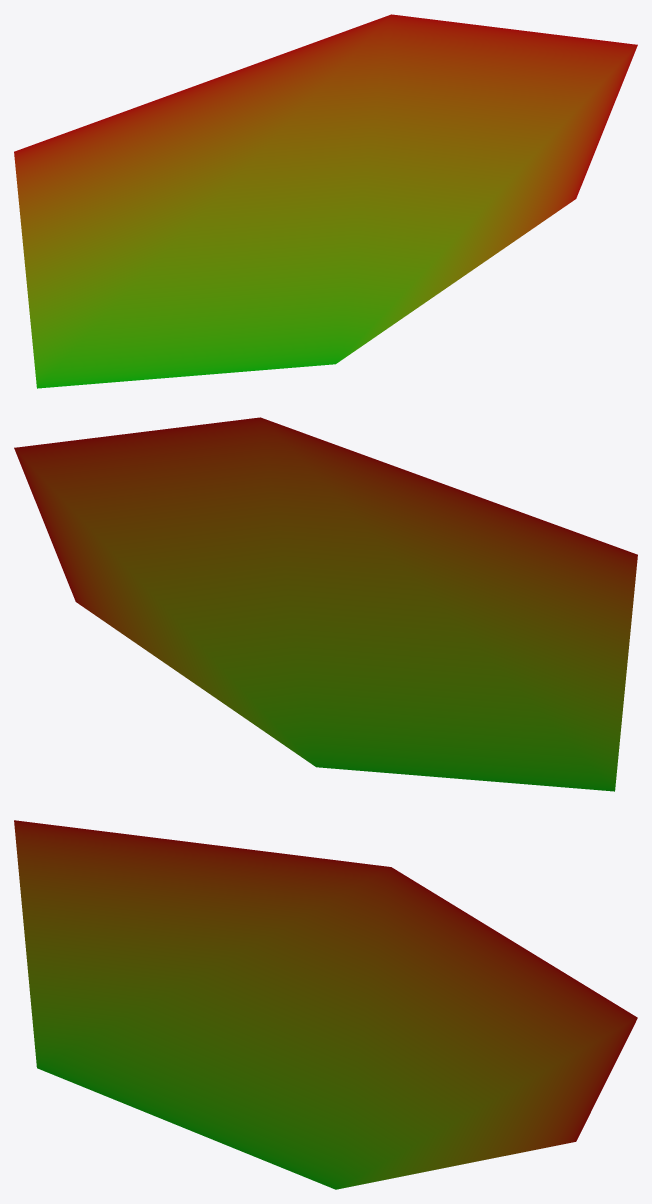
File: Alpine Bearberry_LOD5_Var2_xb0gdazqx.fbx
3 views of the same model, one above another, from view 1: azimuth 30°, elevation 25°; view 2: azimuth 150°, elevation 25°; view 3: azimuth 330°, elevation 25° (orthographic).
Visible parts, largest first — view 1: _jpwy_Var2_LOD5; view 2: _jpwy_Var2_LOD5; view 3: _jpwy_Var2_LOD5.
Boxes of the visible parts, bbox=[...] form: _jpwy_Var2_LOD5: bbox=[14, 14, 637, 388]; _jpwy_Var2_LOD5: bbox=[14, 417, 637, 791]; _jpwy_Var2_LOD5: bbox=[14, 820, 637, 1189].
Size of the model in its own units: 35.39 by 18.22 by 0.
